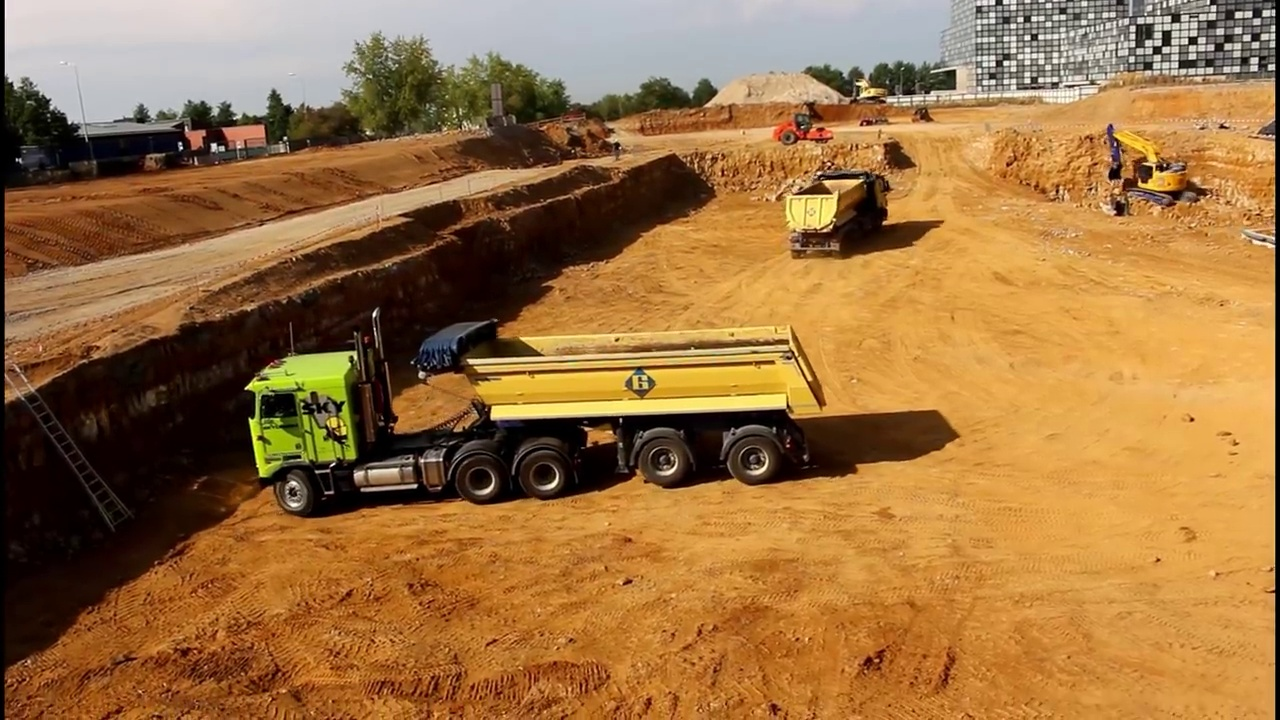compactor: (769, 110, 836, 147)
excavator: (1102, 123, 1203, 210), (846, 78, 889, 106)
truck: (238, 302, 831, 519), (781, 168, 895, 261), (1237, 224, 1280, 266)
worker: (610, 134, 627, 165)
